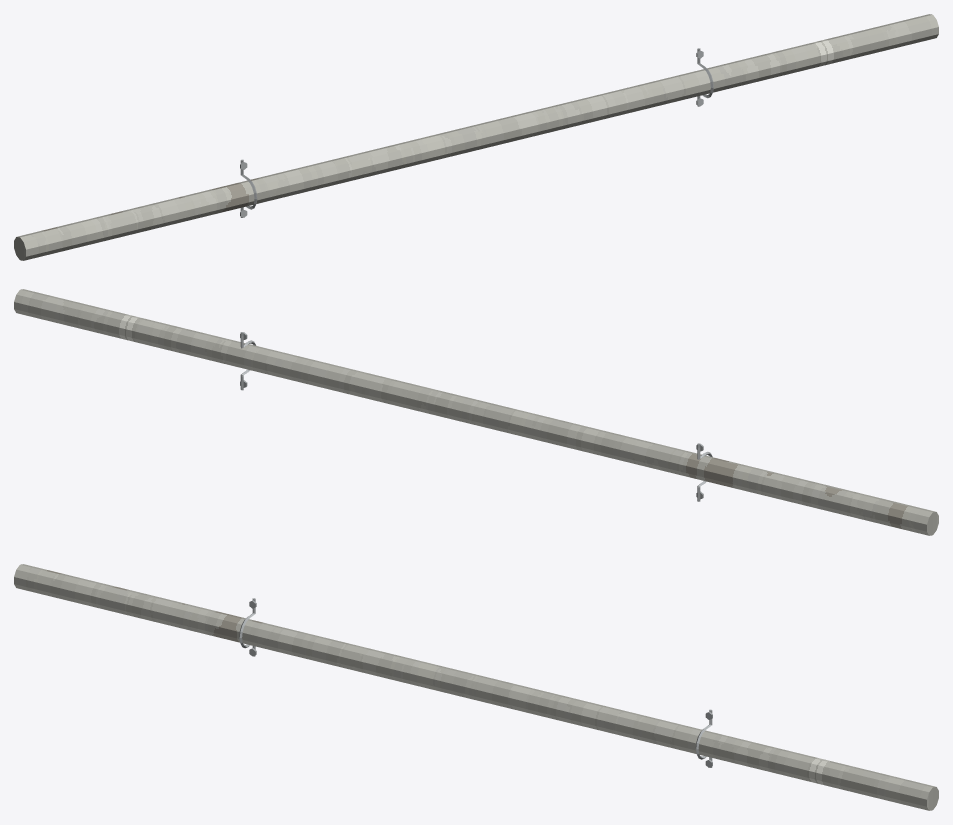
Rendered from gk_conduit.glb.
3 views of the same model, one above another, from view 1: azimuth 30°, elevation 25°; view 2: azimuth 150°, elevation 25°; view 3: azimuth 330°, elevation 25° (orthographic).
Parts seen in each view (by area): view 1: p; view 2: p; view 3: p.
Boxes of the visible parts, <box> form: p: <box>14,14,938,260</box>; p: <box>14,289,938,535</box>; p: <box>14,564,938,810</box>.
Size of the model in its own units: 1 by 0.06 by 0.0291.
2 materials, 2 textured.
